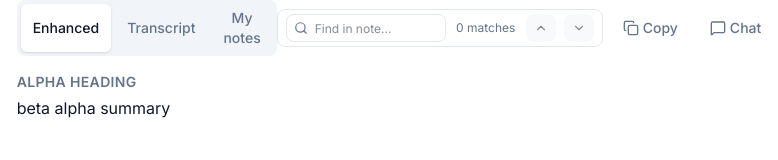
Scenario: NoteView — template switcher › keeps transcript matches out of the count while Enhanced is active
Type "alpha" into the field labelled "Find in note".
click(366, 28); type("alpha")  # box top-left (286, 14), bottom-right (446, 42)
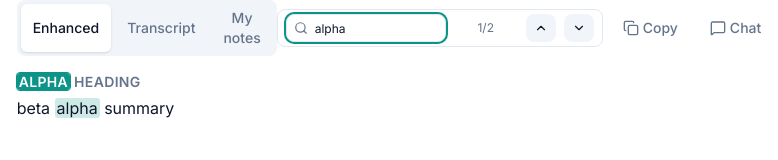
Check: the text "Alpha" is shown, box top-left (17, 73), bottom-right (70, 90)
Check: the text "1/2" is shown, box top-left (477, 20), bottom-right (494, 35)
Click the button named "Next match".
click(579, 28)  # box top-left (564, 14), bottom-right (594, 42)
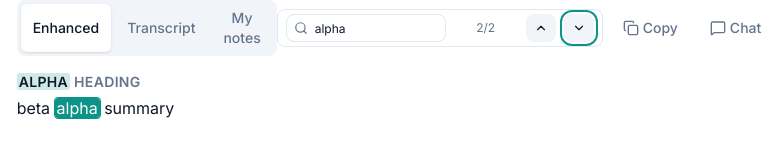
Check: the text "alpha" is shown, box top-left (54, 98), bottom-right (100, 118)
Check: the text "2/2" is shown, box top-left (476, 20), bottom-right (495, 35)
